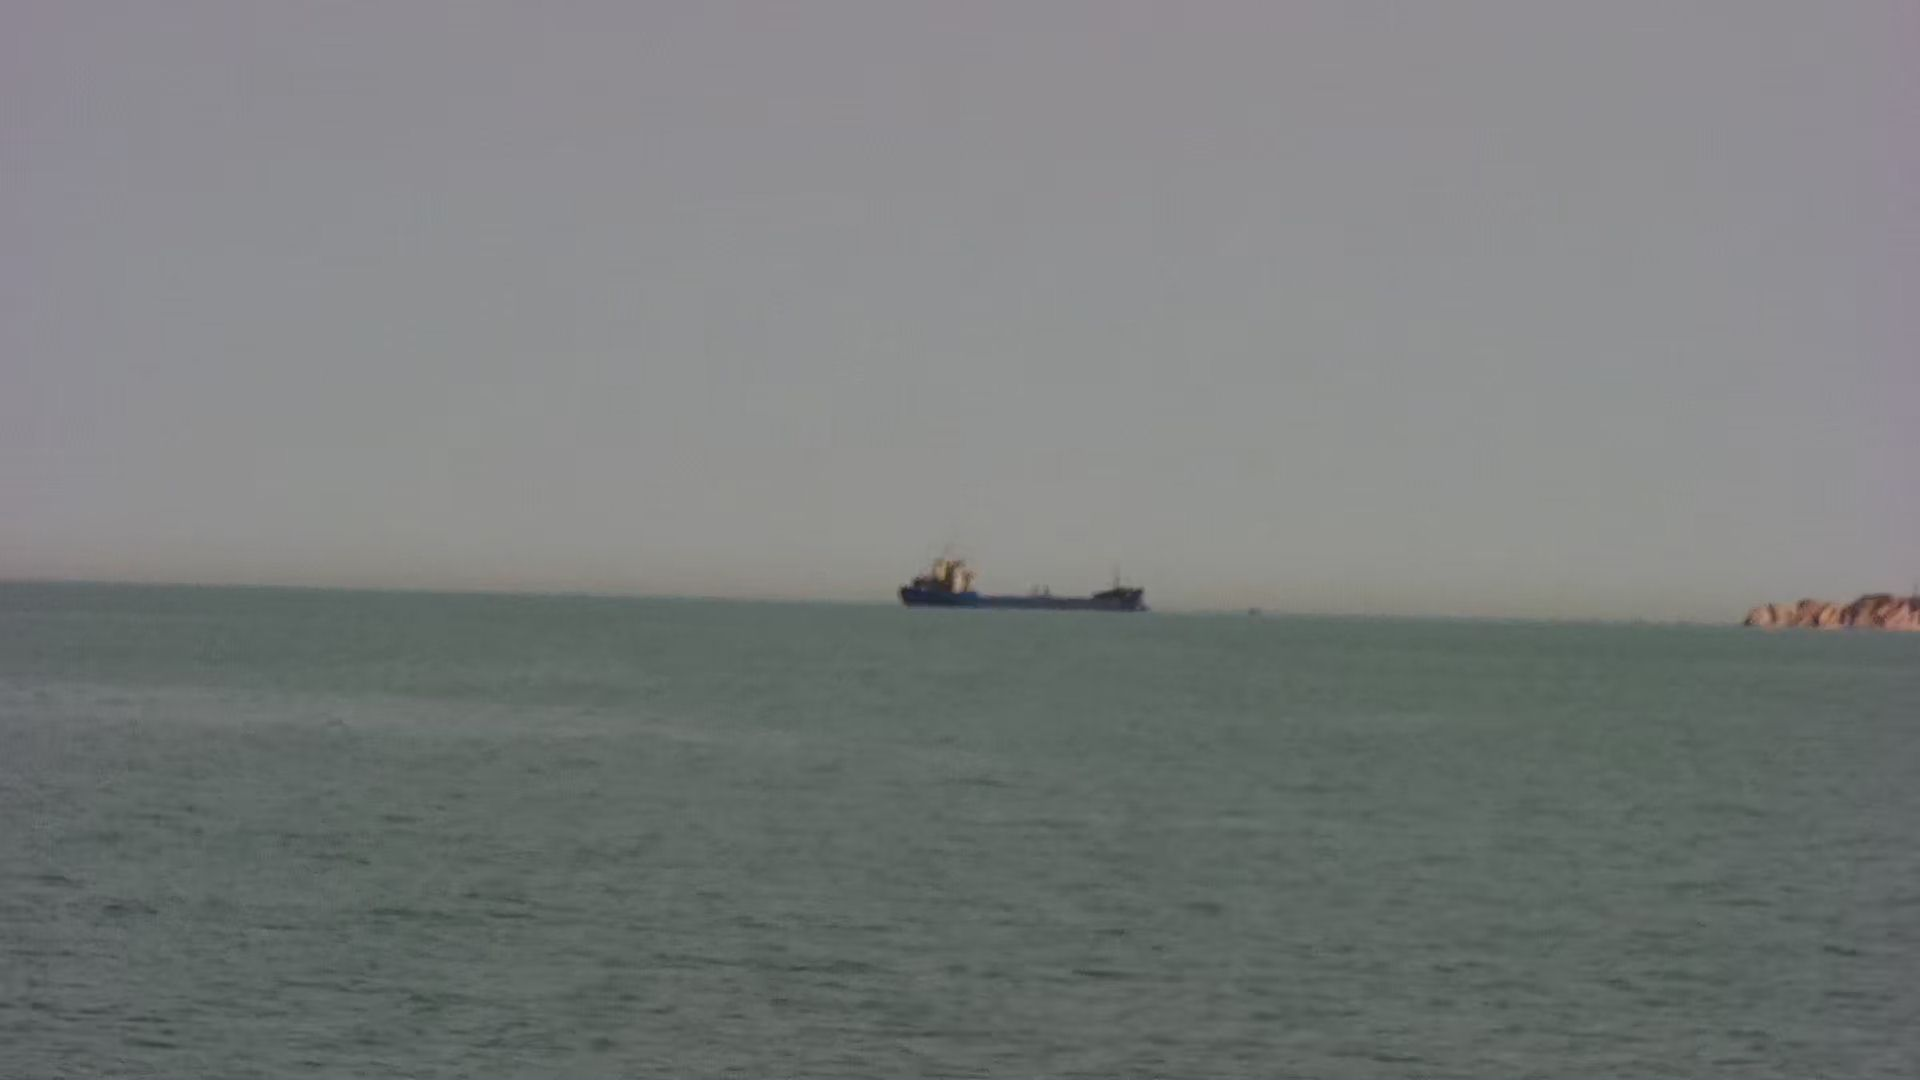rock: (1741, 593, 1920, 636)
ship: (897, 550, 1154, 615)
